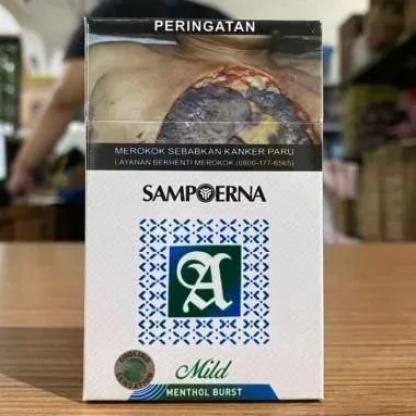bungkus rokok: (78, 10, 328, 414)
